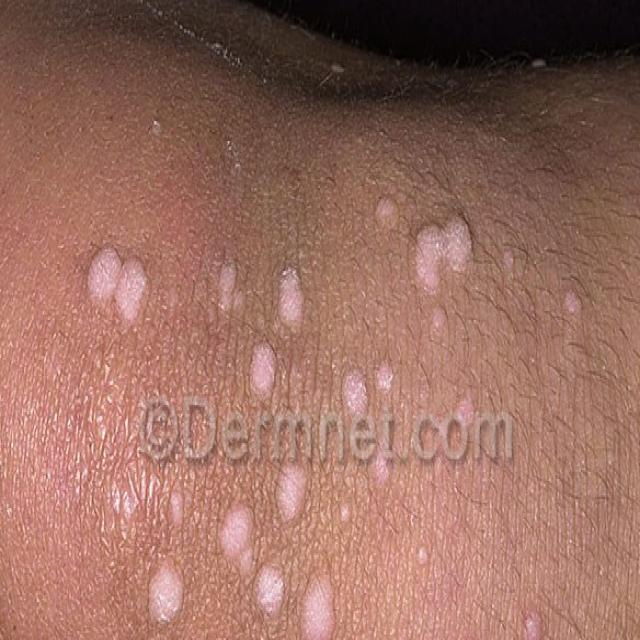Warts: (105, 457, 352, 640), (333, 346, 477, 493), (364, 169, 488, 330), (77, 190, 173, 359), (434, 598, 573, 640), (263, 253, 324, 346), (236, 333, 292, 412), (207, 258, 260, 319), (551, 271, 599, 335), (405, 538, 434, 583), (633, 548, 640, 606)
